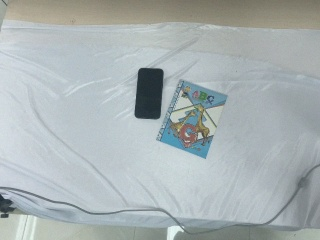book: (155, 80, 228, 160)
phone: (134, 68, 164, 120)
